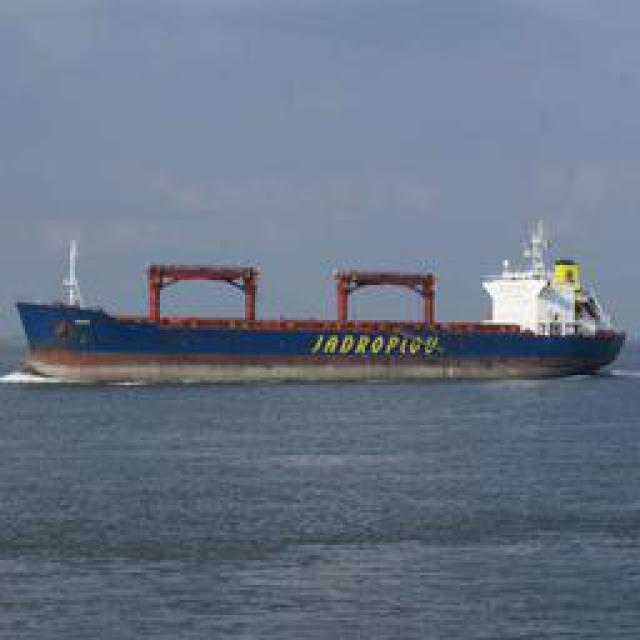Ship: (16, 244, 619, 387)
